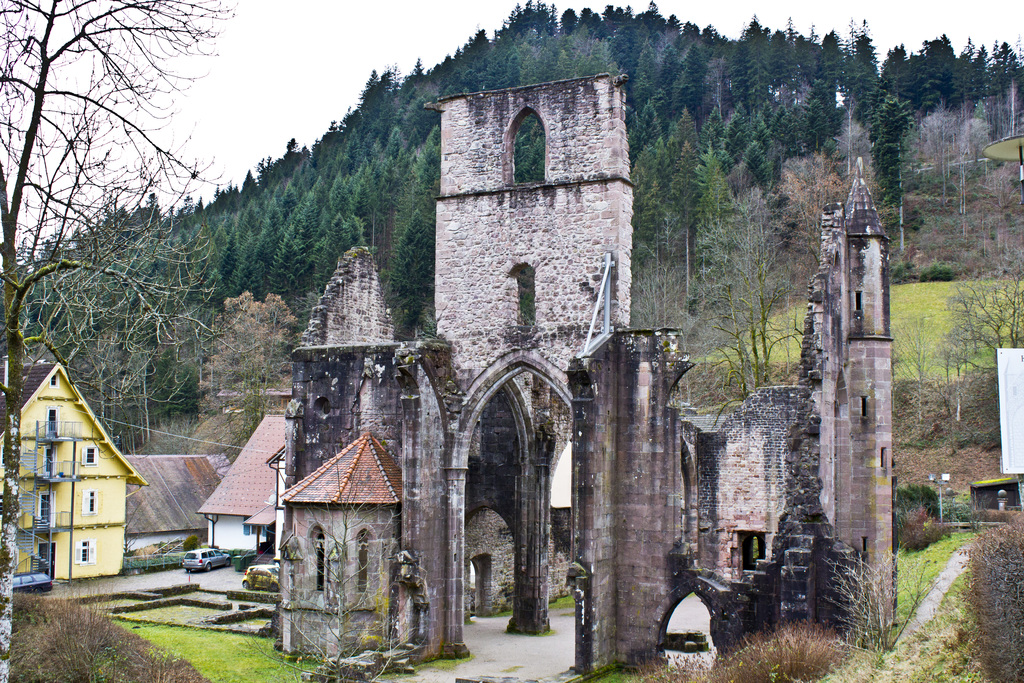Tree: (1, 0, 1023, 453), (12, 25, 272, 429), (224, 444, 429, 682), (703, 199, 816, 436), (195, 290, 295, 490), (939, 247, 1023, 404), (885, 314, 949, 431)
